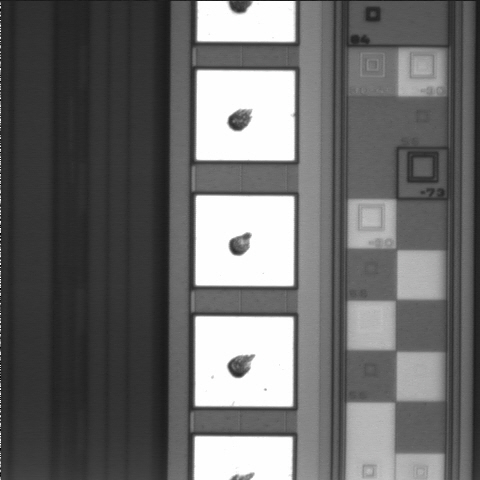pad: (195, 316, 293, 407), (196, 70, 295, 160), (196, 196, 294, 286)
